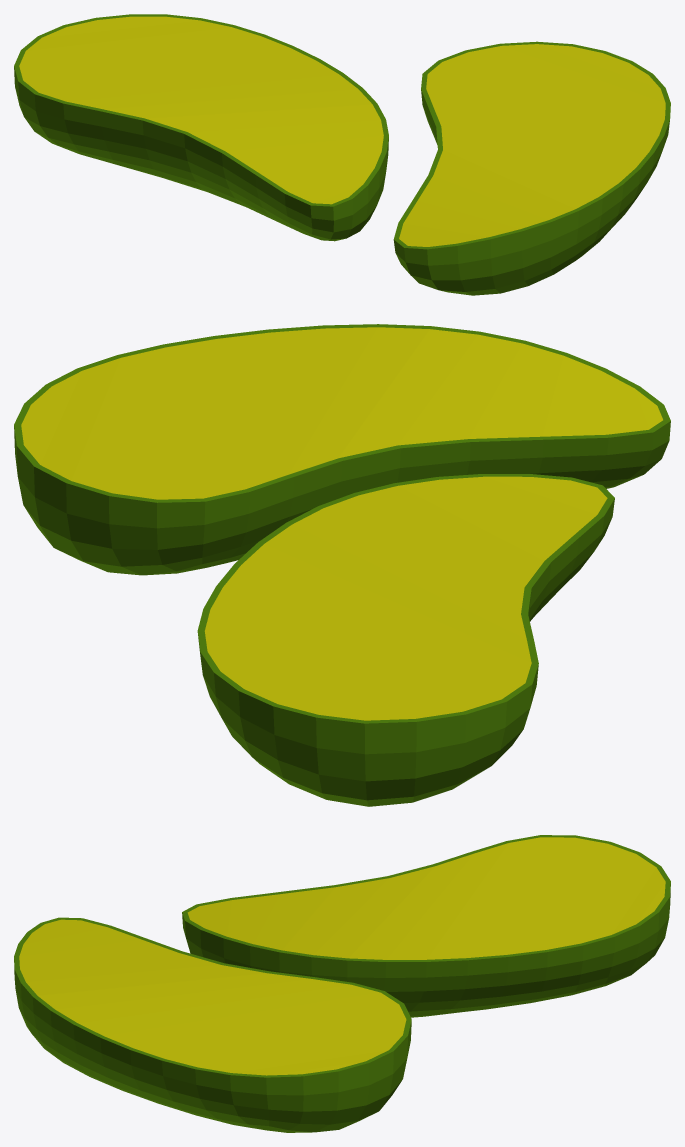
Rendered from green mango sliced.fbx.
3 renders of one model, top to bottom at view 1: azimuth 30°, elevation 25°; view 2: azimuth 150°, elevation 25°; view 3: azimuth 270°, elevation 25°, orthographic. The views are drawn at different scales.
Parts seen in each view (by area): view 1: Green Mango Sliced; view 2: Green Mango Sliced; view 3: Green Mango Sliced.
Part boxes in pixels (x1=…): Green Mango Sliced: x1=14, y1=14, x2=670, y2=295; Green Mango Sliced: x1=14, y1=324, x2=670, y2=806; Green Mango Sliced: x1=14, y1=835, x2=670, y2=1132.
Bounding box in the file's own units: 48.51 × 8.82 × 55.51.
